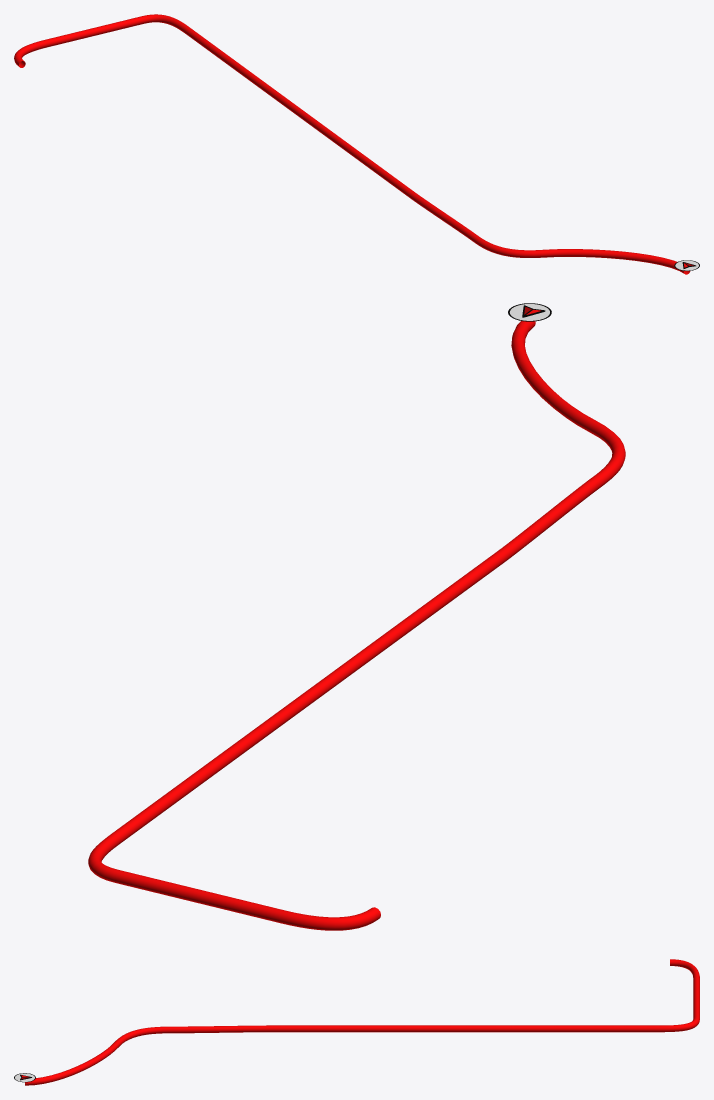
The model's file is route_e9dbc34d-a2c6-4b80-ba1d-4eb7af6d8ec6_de_single.glb.
3 renders of one model, top to bottom at view 1: azimuth 30°, elevation 25°; view 2: azimuth 150°, elevation 25°; view 3: azimuth 270°, elevation 25°, orthographic. The views are drawn at different scales.
Visible parts, largest first — view 1: A6, Abteil 2; view 2: A6, Abteil 2; view 3: A6, Abteil 2.
Part boxes in pixels (box(x1,y1,x2,y2)): A6, Abteil 2: box(14, 14, 690, 274); A6, Abteil 2: box(88, 321, 625, 930); A6, Abteil 2: box(25, 959, 699, 1085).
Bounding box in the file's own units: 3.52 × 0.1062 × 8.11.
